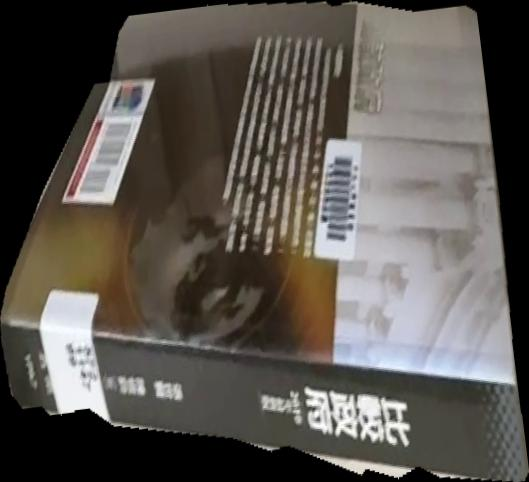flat: (1, 1, 529, 482)
